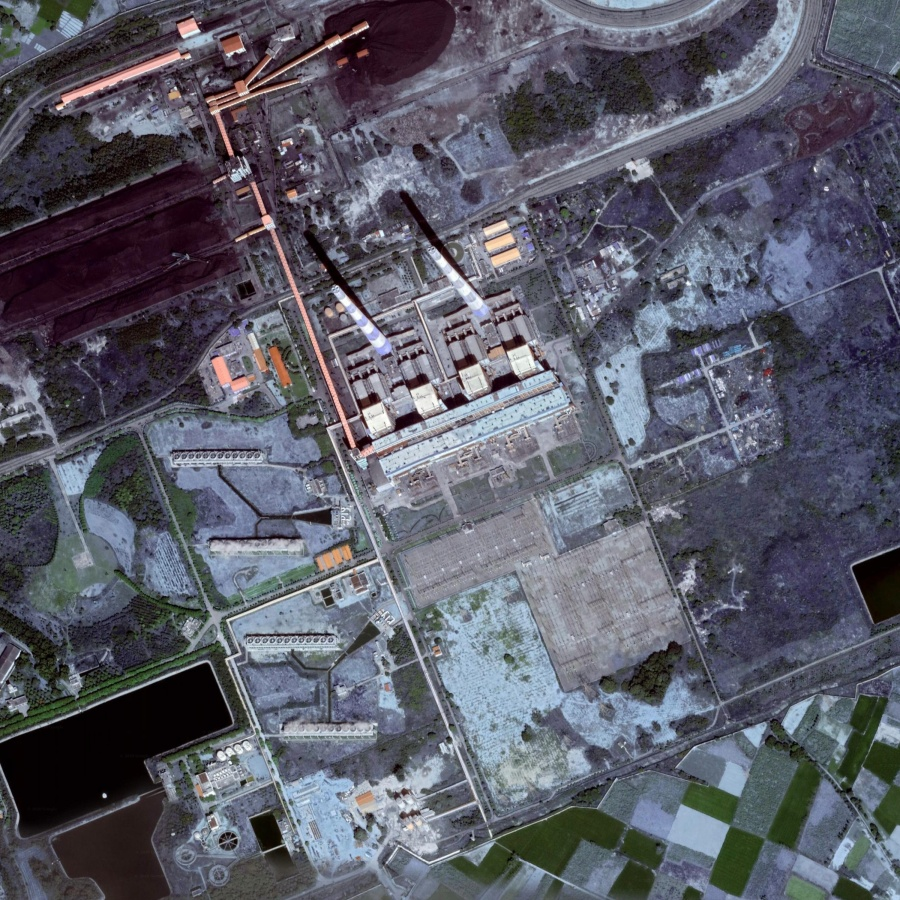PowerPlant: (293, 183, 530, 388)
